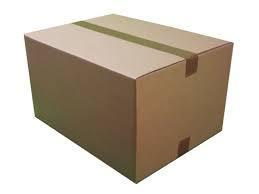box: (23, 13, 233, 184)
